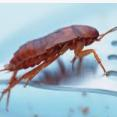cockroach: (5, 24, 99, 82)
